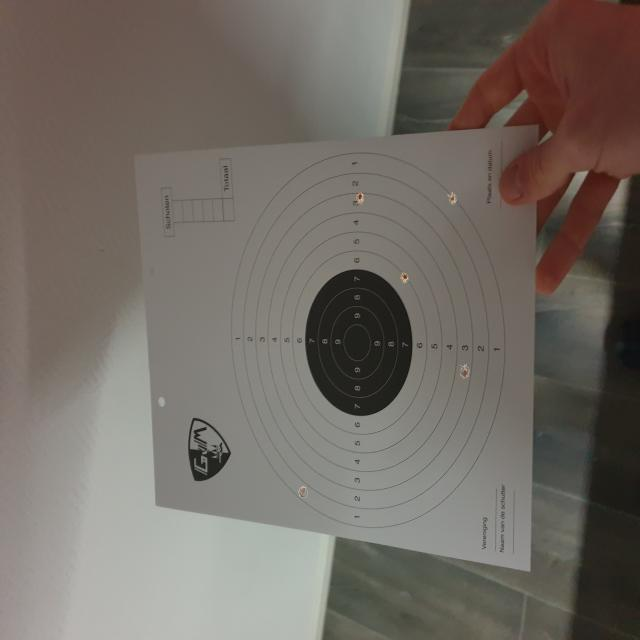1: (298, 486, 308, 498), (448, 192, 457, 205)
3: (459, 364, 470, 378), (356, 192, 364, 205)
6: (400, 271, 409, 284)
Target: (230, 150, 506, 528)
black_contour: (305, 269, 413, 416)
